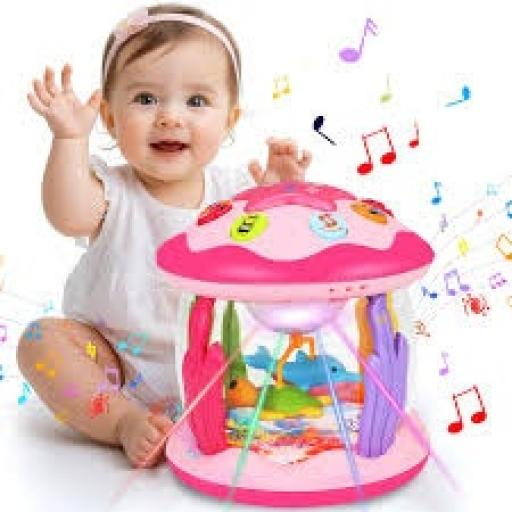baby: (16, 5, 311, 466)
